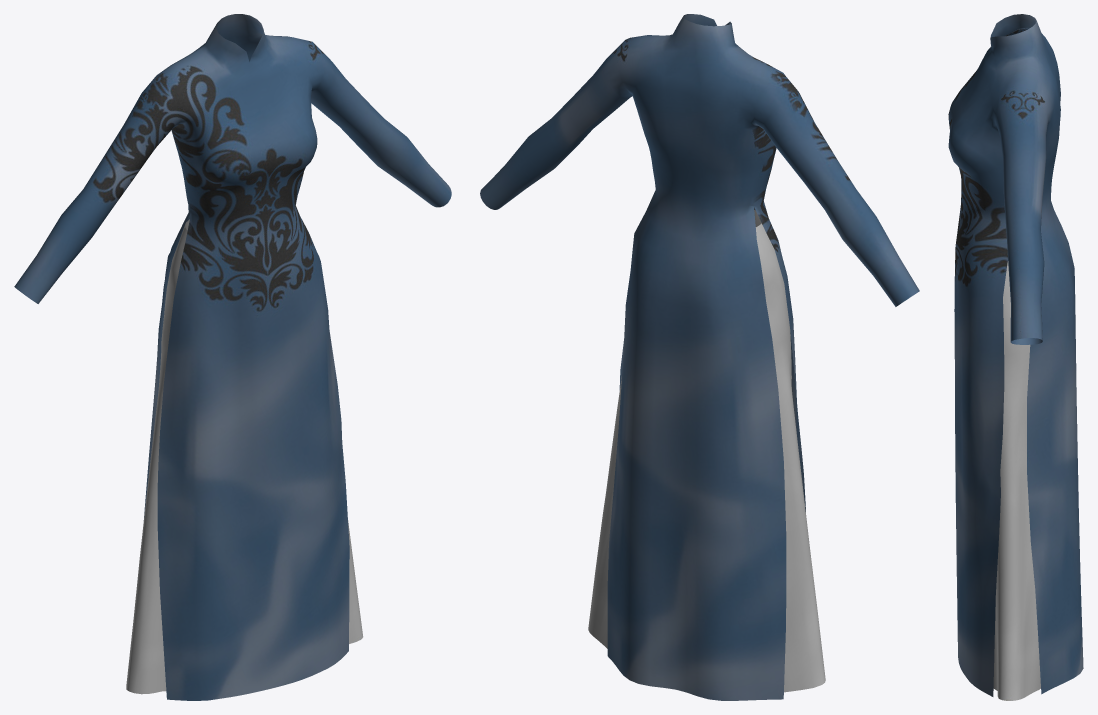
Rendered from ao-dai-blue.glb.
The picture shows the model from 3 angles, left to right: view 1: azimuth 30°, elevation 25°; view 2: azimuth 150°, elevation 25°; view 3: azimuth 270°, elevation 25°; orthographic projection. The views are drawn at different scales.
Parts seen in each view (by area): view 1: TOP_0, LOWER_0; view 2: TOP_0, LOWER_0; view 3: TOP_0, LOWER_0.
Boxes of the visible parts, x1,y1,x2,y2 form: TOP_0: (14,14,451,700); LOWER_0: (126,219,363,694); TOP_0: (480,14,919,700); LOWER_0: (588,210,825,692); TOP_0: (948,14,1083,696); LOWER_0: (993,261,1040,700).
Bounding box in the file's own units: 1.03 × 1.48 × 0.2858.
2 materials, 2 textured.
